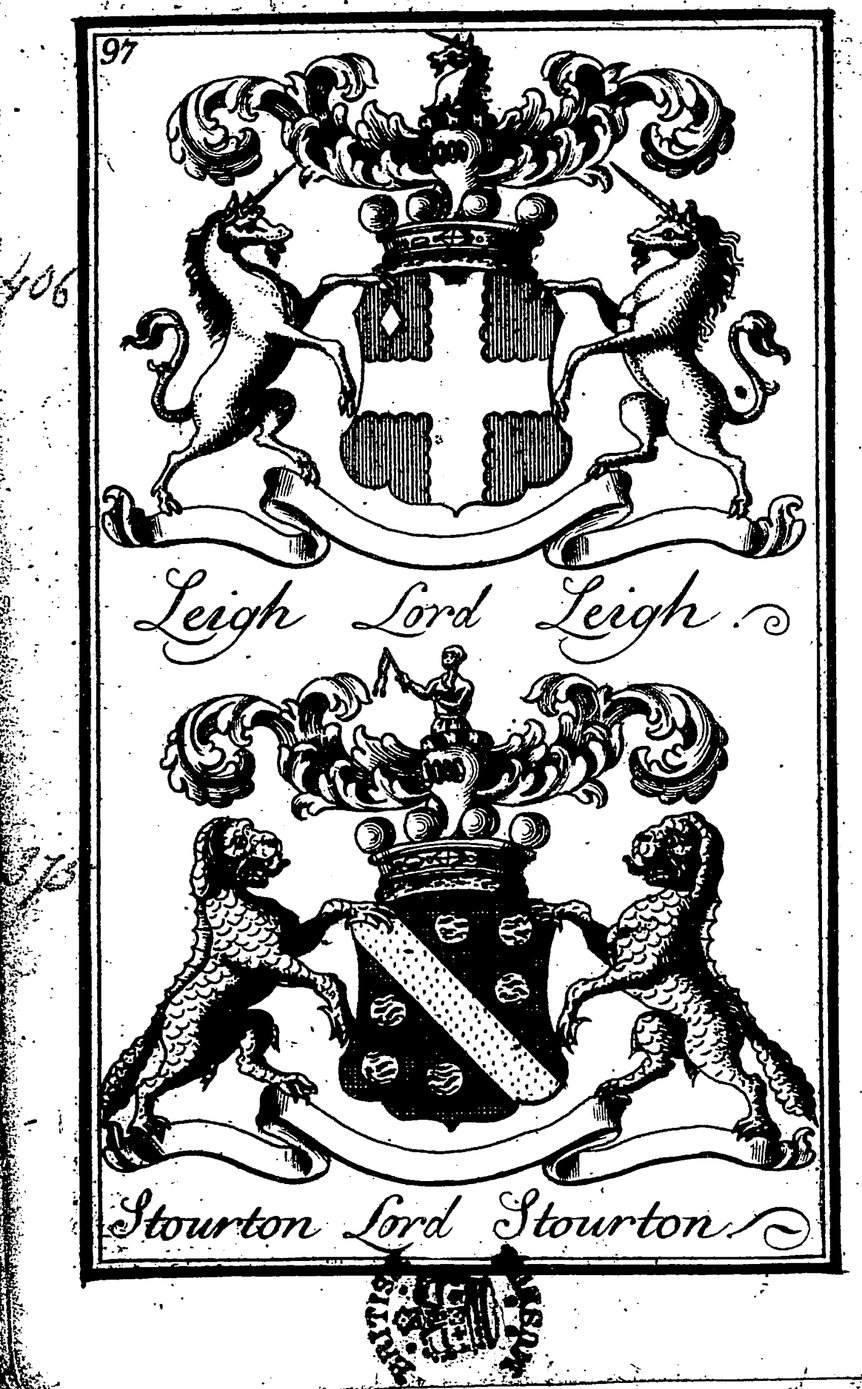coat_of_arms: (92, 647, 822, 1254), (102, 30, 812, 652)
